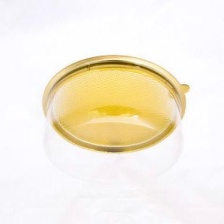plastic_box: (30, 51, 197, 198)
